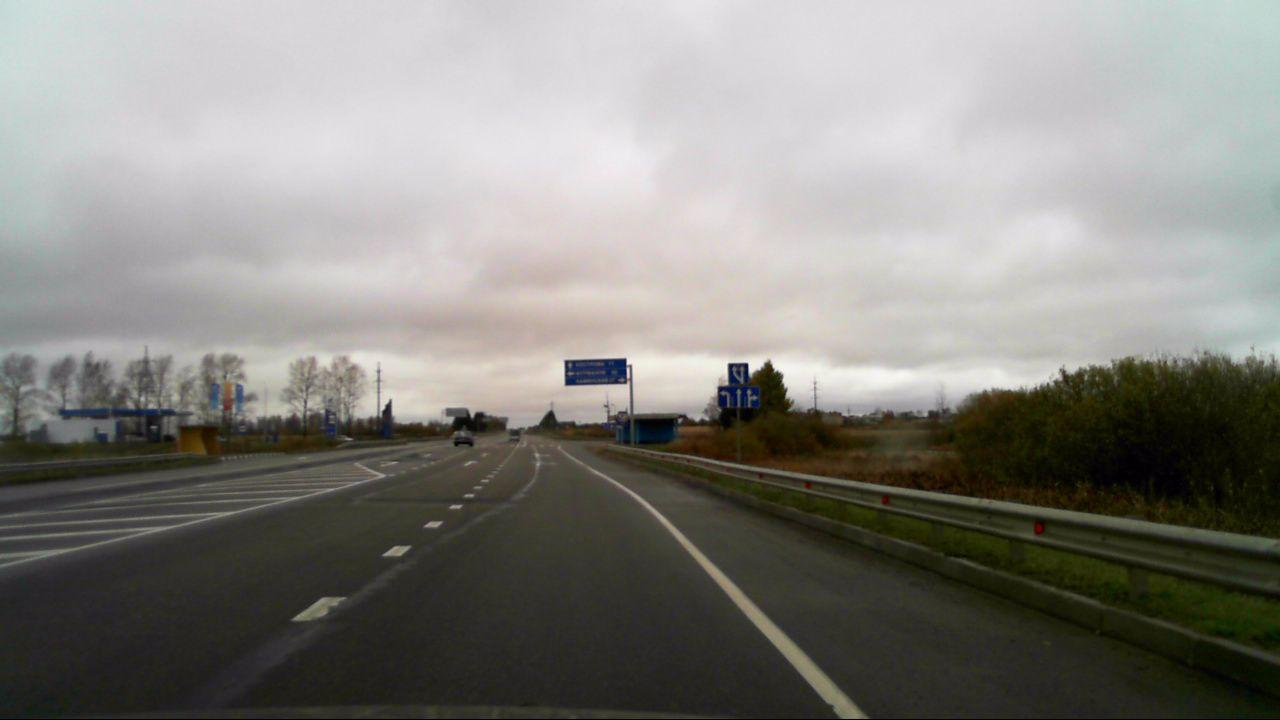5_15_1: (716, 389, 764, 413)
5_15_4: (728, 362, 750, 385)
6_10_1: (565, 359, 630, 386)
